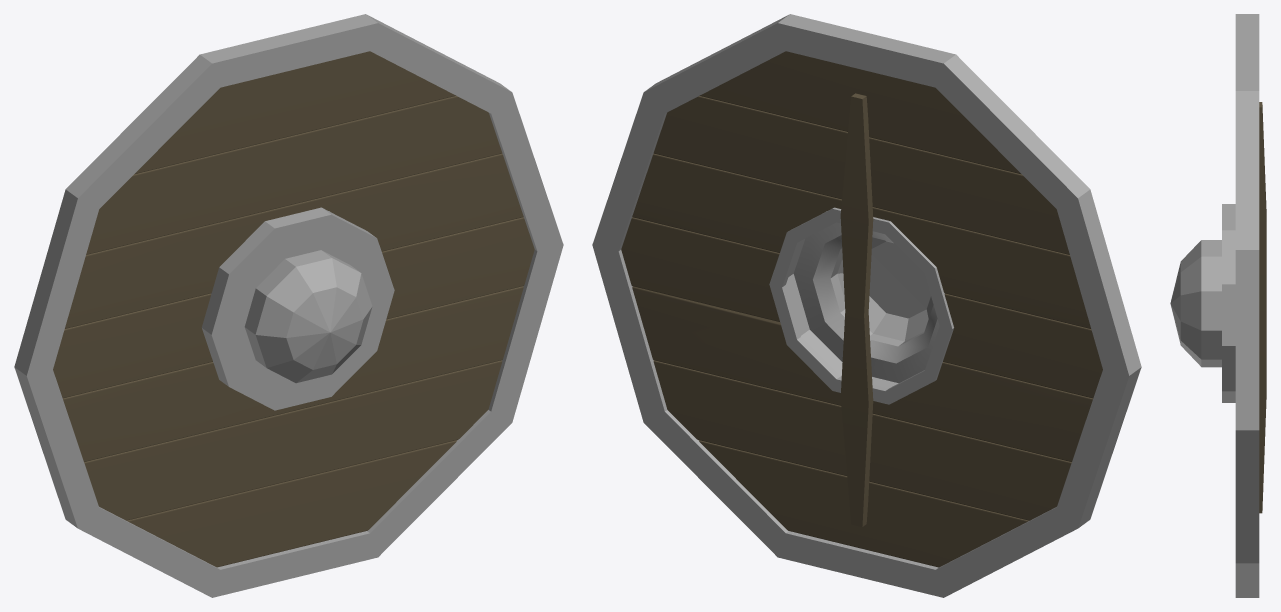
File: VikingShield.fbx
3 renders of one model, left to right at view 1: azimuth 30°, elevation 25°; view 2: azimuth 150°, elevation 25°; view 3: azimuth 270°, elevation 25°, orthographic. The views are drawn at different scales.
Parts seen in each view (by area): view 1: Shield2:Shield; view 2: Shield2:Shield; view 3: Shield2:Shield.
Part boxes in pixels (x1=…): Shield2:Shield: x1=14, y1=14, x2=563, y2=597; Shield2:Shield: x1=592, y1=14, x2=1141, y2=597; Shield2:Shield: x1=1170, y1=14, x2=1266, y2=597.
Size of the model in its own units: 0.6543 by 0.6222 by 0.1069.
